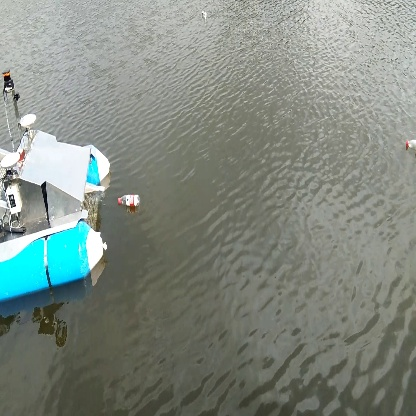bottle: (115, 190, 148, 208)
